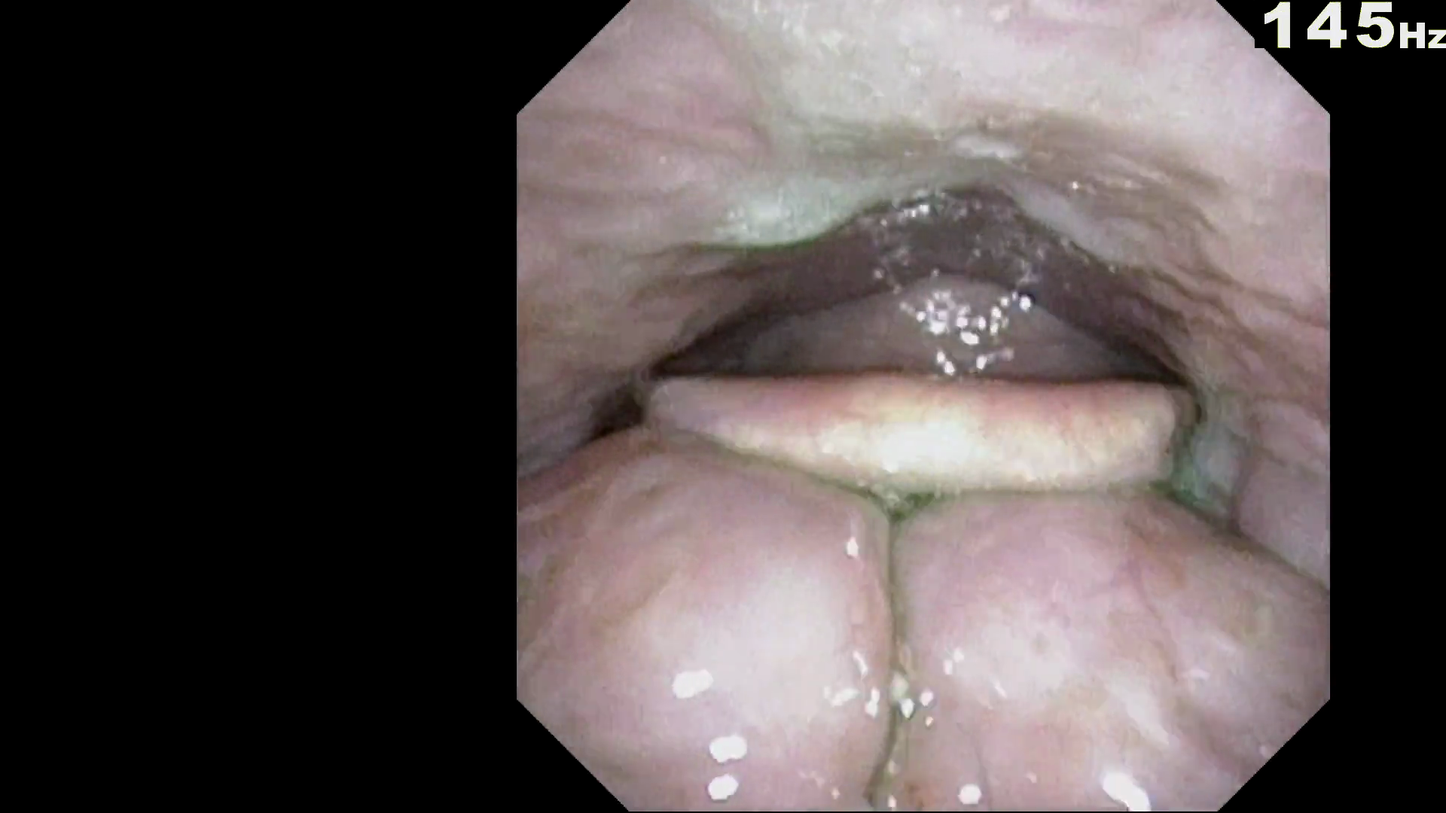epiglottis: (682, 411, 1184, 522)
